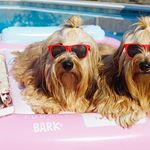puppy: (13, 15, 102, 118)
